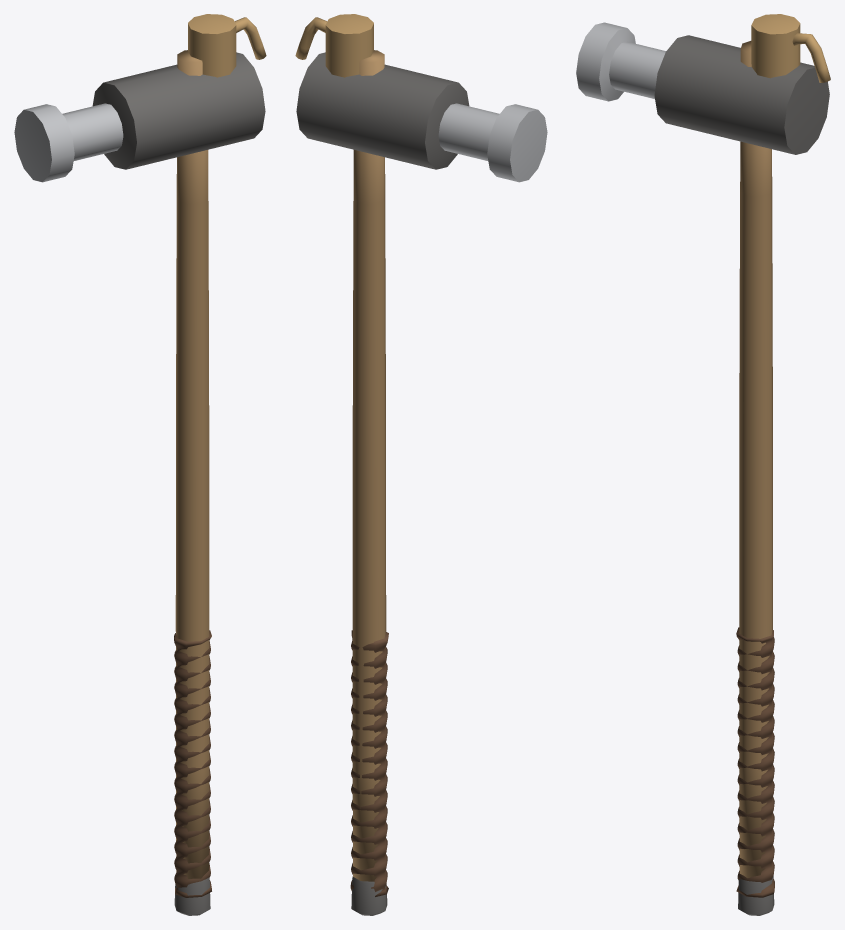
Rendered from gnome-piston-maul.glb.
3 views of the same model, side by side, from view 1: azimuth 30°, elevation 25°; view 2: azimuth 150°, elevation 25°; view 3: azimuth 330°, elevation 25° (orthographic).
Parts seen in each view (by area): view 1: gnome-piston-maul; view 2: gnome-piston-maul; view 3: gnome-piston-maul.
Part boxes in pixels (<box>): gnome-piston-maul: <box>14,14,266,915</box>; gnome-piston-maul: <box>295,14,547,915</box>; gnome-piston-maul: <box>576,14,830,915</box>.
Size of the model in its own units: 0.7202 by 2.6 by 0.24.
